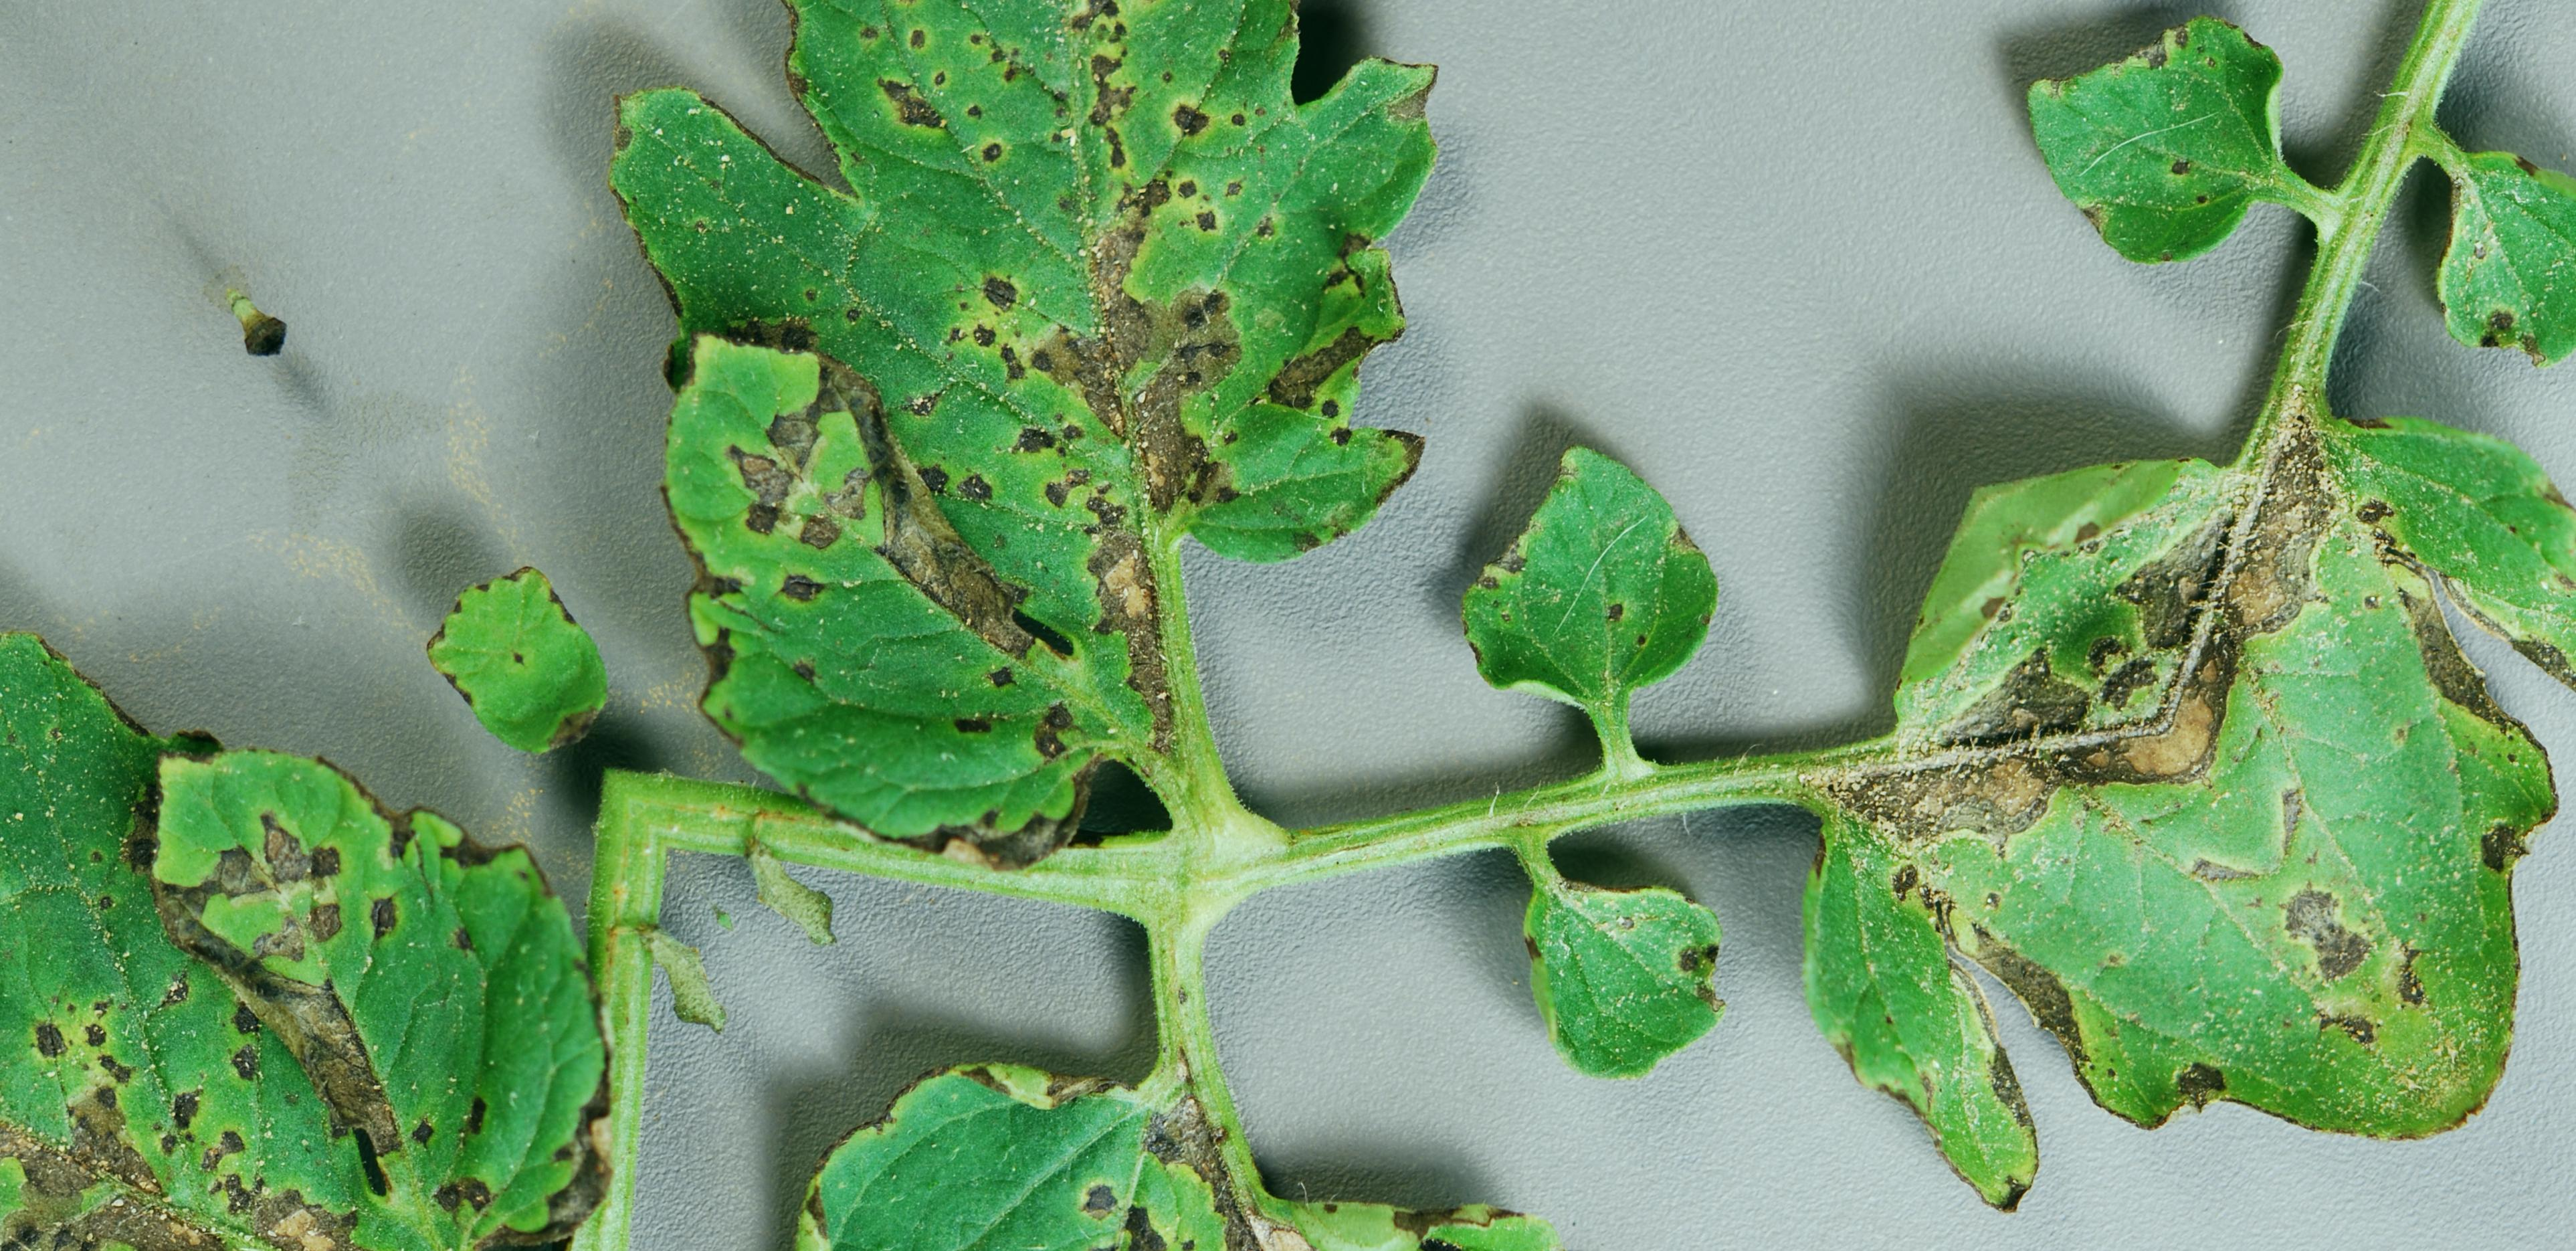Tomato Septoria leaf spot: (352, 0, 1807, 855), (1433, 426, 2504, 1251), (851, 753, 2011, 1251), (491, 205, 1219, 983), (1357, 325, 1820, 801)
